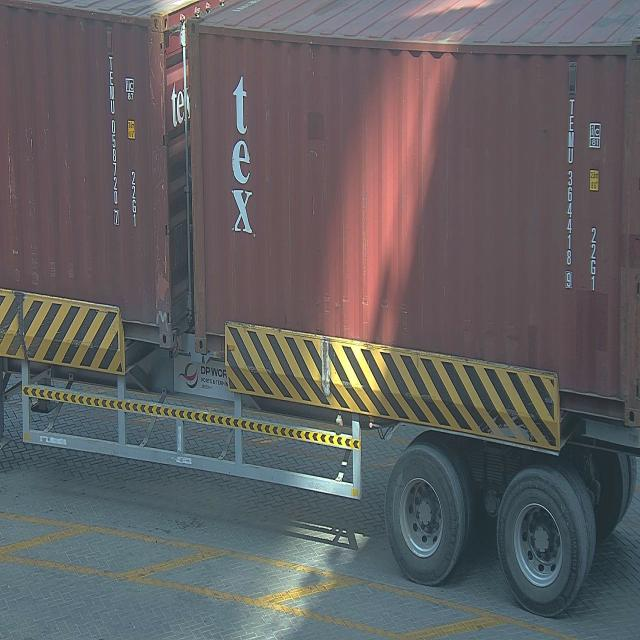dent: (470, 315, 539, 362)
